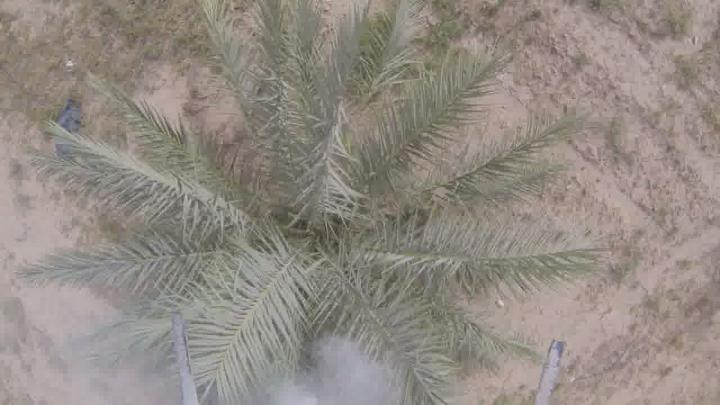Date-Palm-Crown: (172, 138, 484, 359)
